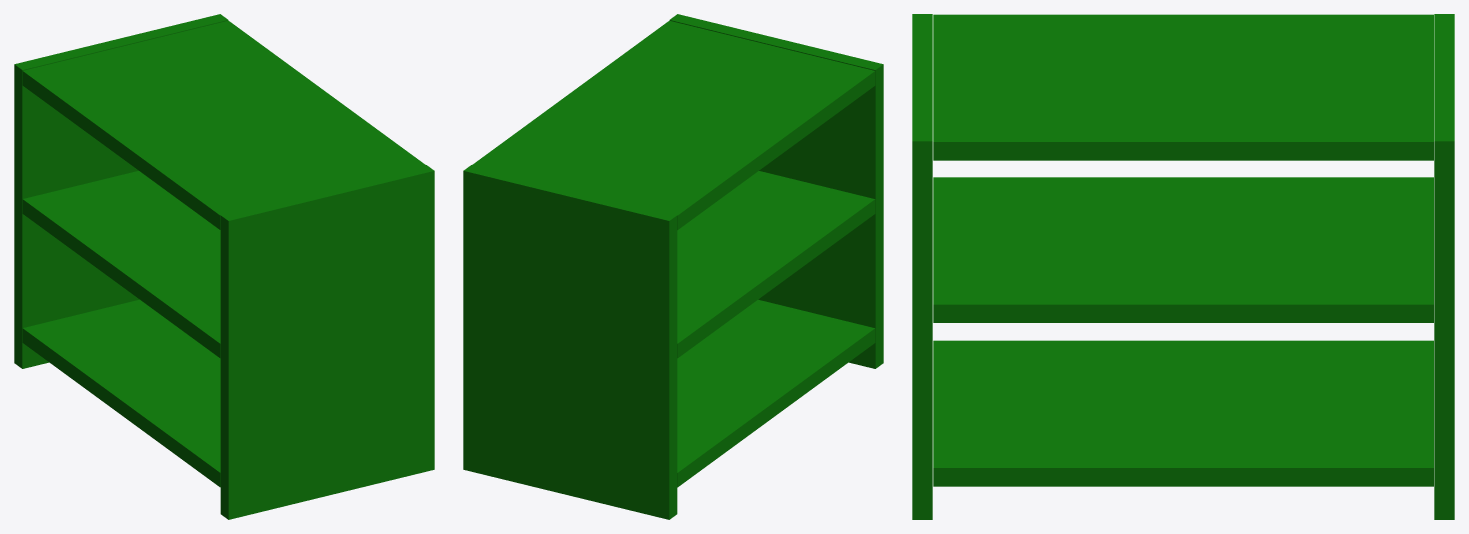
Rendered from estanteverde.fbx.
The picture shows the model from 3 angles, left to right: view 1: azimuth 30°, elevation 25°; view 2: azimuth 150°, elevation 25°; view 3: azimuth 270°, elevation 25°; orthographic projection. The views are drawn at different scales.
Visible parts, largest first — view 1: Cubo.015, Cubo.010, Cubo.012, Cubo.014, Cubo.017; view 2: Cubo.017, Cubo.010, Cubo.012, Cubo.014, Cubo.015; view 3: Cubo.010, Cubo.012, Cubo.014, Cubo.015, Cubo.017.
Part boxes in pixels (box(x1,y1,x2,y2)): Cubo.015: box(220, 165, 434, 519); Cubo.010: box(22, 20, 425, 229); Cubo.012: box(22, 299, 220, 487); Cubo.014: box(22, 171, 220, 358); Cubo.017: box(14, 14, 228, 368); Cubo.017: box(463, 165, 677, 519); Cubo.010: box(472, 20, 875, 229); Cubo.012: box(677, 299, 875, 487); Cubo.014: box(677, 171, 875, 358); Cubo.015: box(669, 14, 883, 368); Cubo.010: box(933, 14, 1433, 160); Cubo.012: box(933, 340, 1433, 486); Cubo.014: box(933, 177, 1433, 322); Cubo.015: box(912, 14, 932, 519); Cubo.017: box(1434, 14, 1454, 519).
Size of the model in its own units: 221 by 306 by 397.
